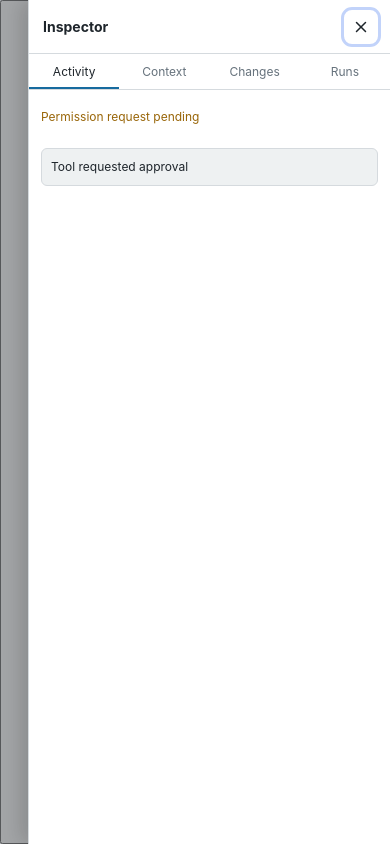
Test case: Inspector › uses a focus-managed mobile dialog that closes from Escape and backdrop
Step 1. Press Escape in the dialog
Step 2. Click the button with class "webui2-inspector-backdrop" → (23, 422), box x1=0 y1=0 x2=389 y2=843
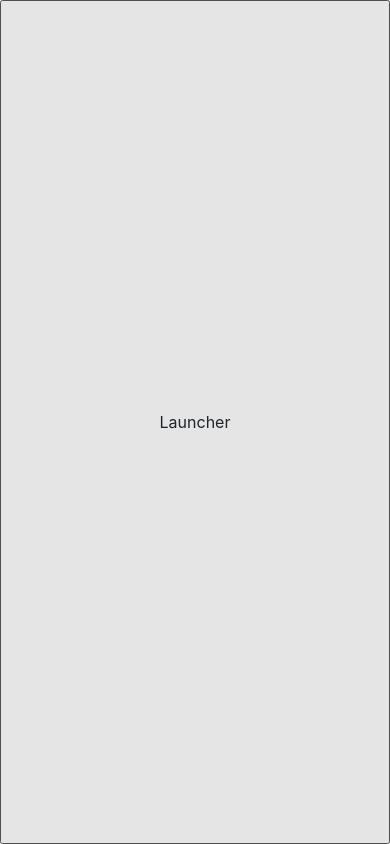
Now the dialog is gone
